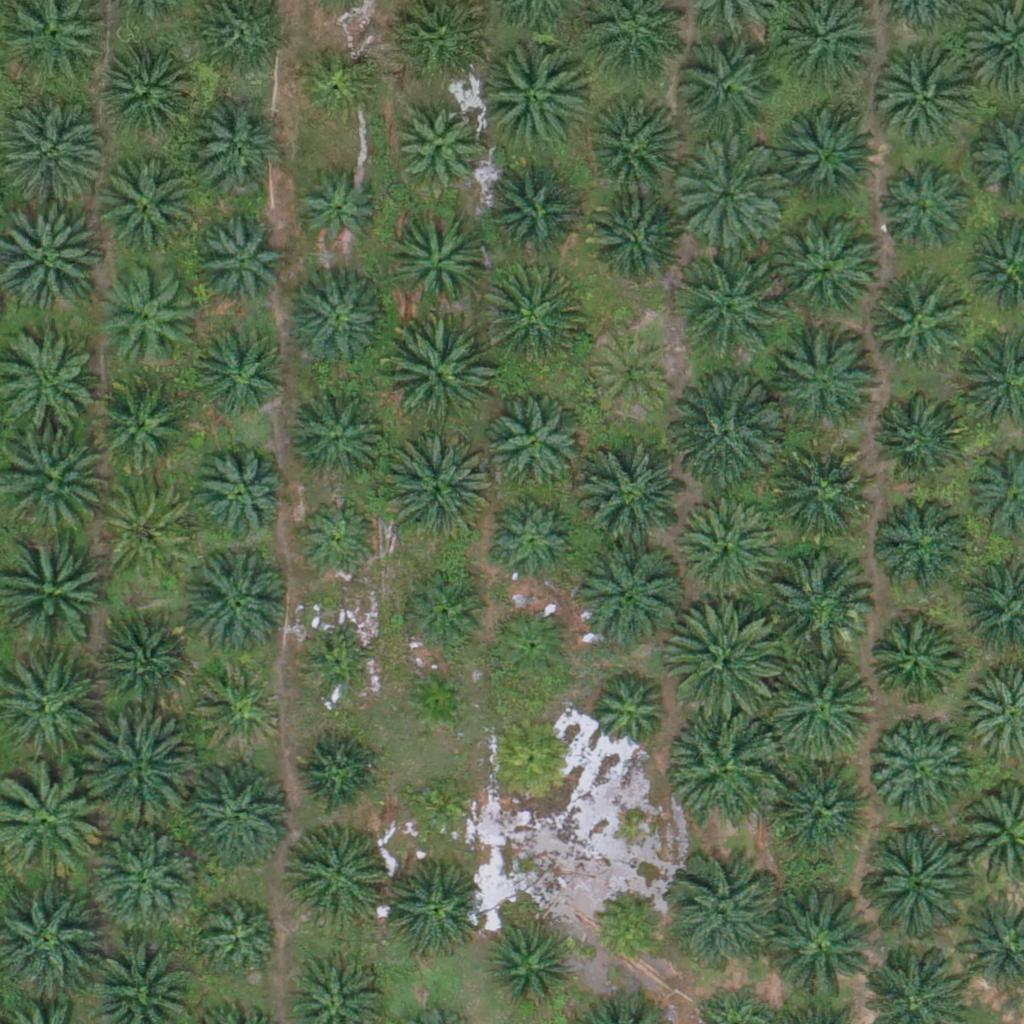Kelapa_Sawit: (669, 252, 782, 366), (470, 38, 583, 151), (857, 828, 970, 941), (672, 709, 785, 822), (669, 857, 782, 970), (762, 545, 875, 658), (669, 378, 782, 491), (379, 431, 492, 544), (380, 319, 493, 432), (91, 820, 203, 934), (761, 887, 873, 1001), (765, 646, 877, 760), (667, 598, 779, 712), (670, 137, 782, 250), (78, 714, 190, 827), (181, 755, 293, 868), (478, 261, 590, 374), (180, 545, 292, 658), (576, 444, 688, 557), (571, 537, 683, 650), (103, 41, 203, 142), (192, 97, 292, 198), (475, 160, 575, 261), (578, 91, 678, 192), (777, 99, 877, 200), (877, 55, 977, 156), (380, 859, 480, 960), (862, 611, 962, 712), (869, 719, 969, 820), (678, 499, 778, 600), (483, 393, 583, 494), (387, 212, 487, 313), (285, 272, 385, 373), (287, 385, 387, 486), (189, 444, 289, 545), (95, 262, 195, 363), (92, 372, 192, 473), (99, 155, 199, 255), (672, 41, 772, 141), (93, 615, 193, 715), (286, 823, 386, 923), (776, 757, 876, 857), (874, 489, 974, 589), (866, 269, 966, 369), (871, 385, 971, 485), (777, 218, 877, 318), (777, 335, 877, 435), (769, 448, 869, 548), (579, 188, 679, 288), (98, 481, 198, 581), (487, 713, 575, 802), (296, 36, 384, 124), (391, 104, 479, 192), (487, 600, 575, 688), (588, 331, 676, 419), (292, 498, 380, 586), (195, 330, 283, 418), (194, 221, 282, 309), (489, 496, 576, 585), (291, 168, 378, 256), (880, 164, 967, 252), (195, 663, 282, 751), (199, 897, 286, 985), (294, 727, 381, 815), (486, 924, 573, 1012), (583, 668, 670, 756), (398, 570, 485, 658), (590, 885, 665, 961), (398, 662, 473, 738), (402, 770, 477, 846), (304, 633, 379, 708)
